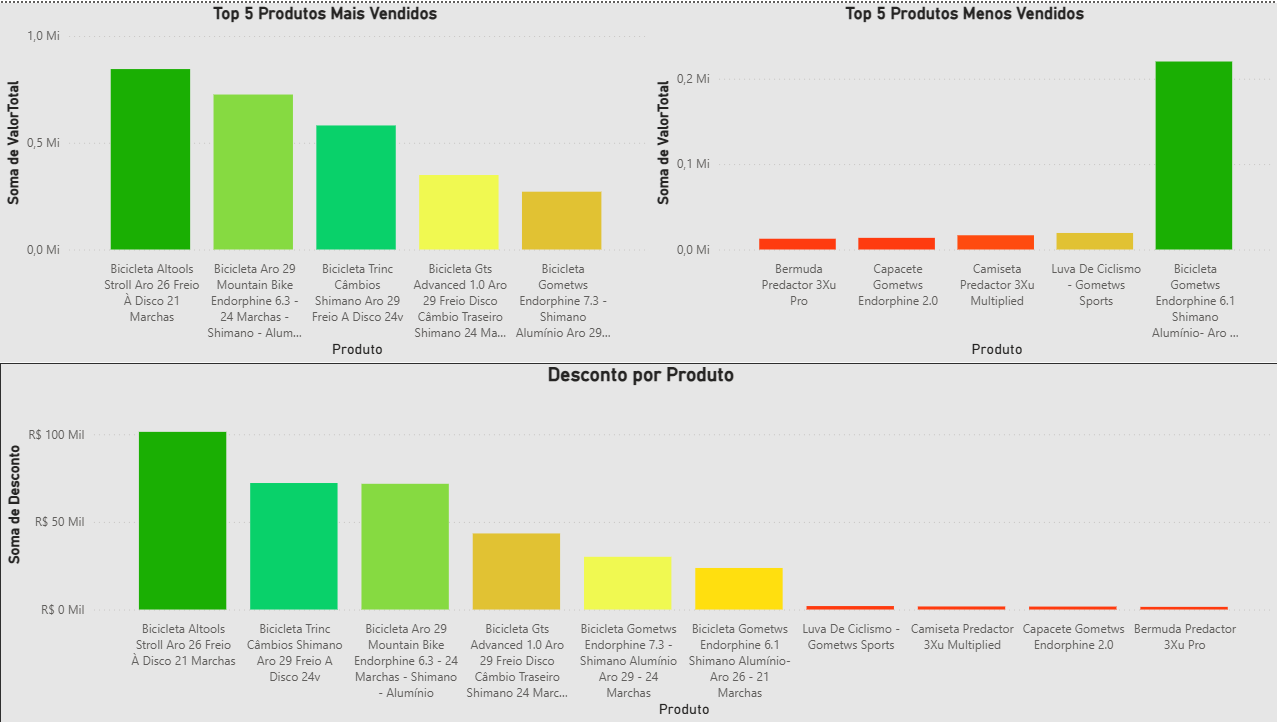

This screenshot's page, from the dashboard's own definition file:
{"tool":"powerbi","page":{"name":"Produtos","canvas":[1280,720],"ordinal":2},"visuals":[{"type":"clusteredColumnChart","title":"Top 5 Produtos Mais Vendidos","fields":{"Category":["Produtos.Produto"],"Y":["Sum(ItensVendas.ValorTotal)"]},"box":[0,0,650.5,359.5],"z":0},{"type":"clusteredColumnChart","title":"Top 5 Produtos Menos Vendidos","fields":{"Category":["Produtos.Produto"],"Y":["Sum(ItensVendas.ValorTotal)"]},"box":[650.5,0,629.8,359.5],"z":1},{"type":"clusteredColumnChart","title":"Desconto por Produto","fields":{"Category":["Produtos.Produto"],"Y":["Sum(ItensVendas.Desconto)"]},"box":[0,359.5,1280.3,360.7],"z":2}]}

Visuals, with their boxes in screenshot pixels (x1, y1, x2, y2), scaled from the page's 1280x720 canvas onto the 1277x722 screenshot:
"Top 5 Produtos Mais Vendidos" clusteredColumnChart: [0,0,649,360]
"Top 5 Produtos Menos Vendidos" clusteredColumnChart: [649,0,1276,360]
"Desconto por Produto" clusteredColumnChart: [0,360,1276,721]
